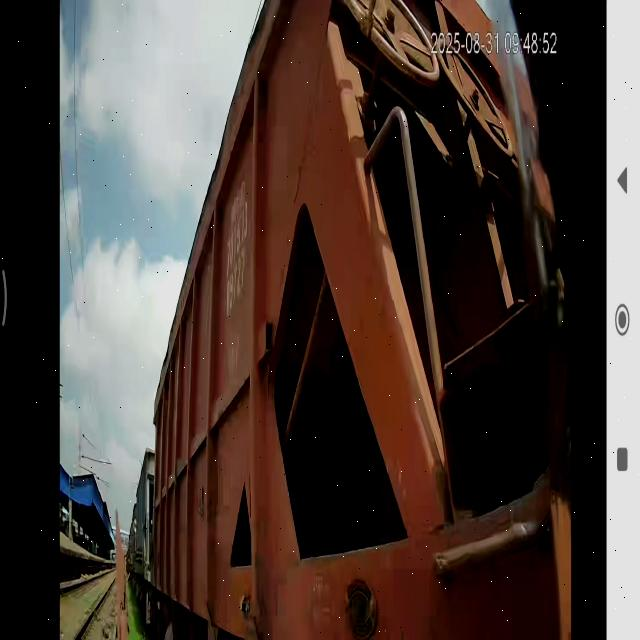coach: (160, 6, 342, 640)
